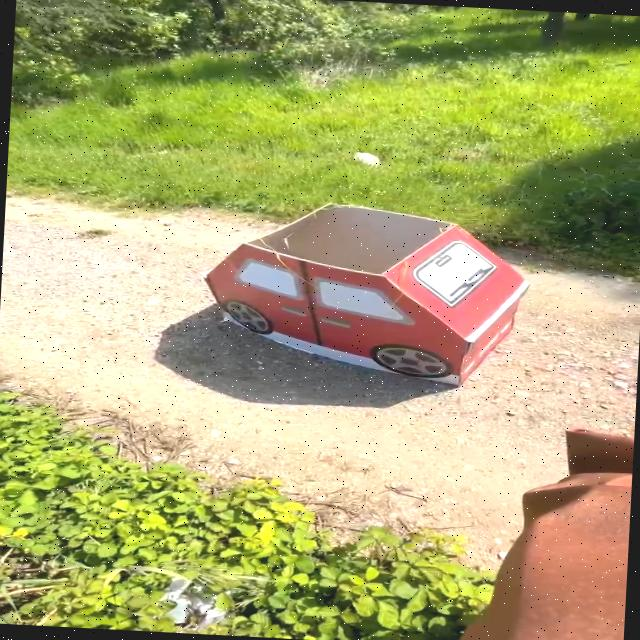red_car: (173, 187, 587, 404)
